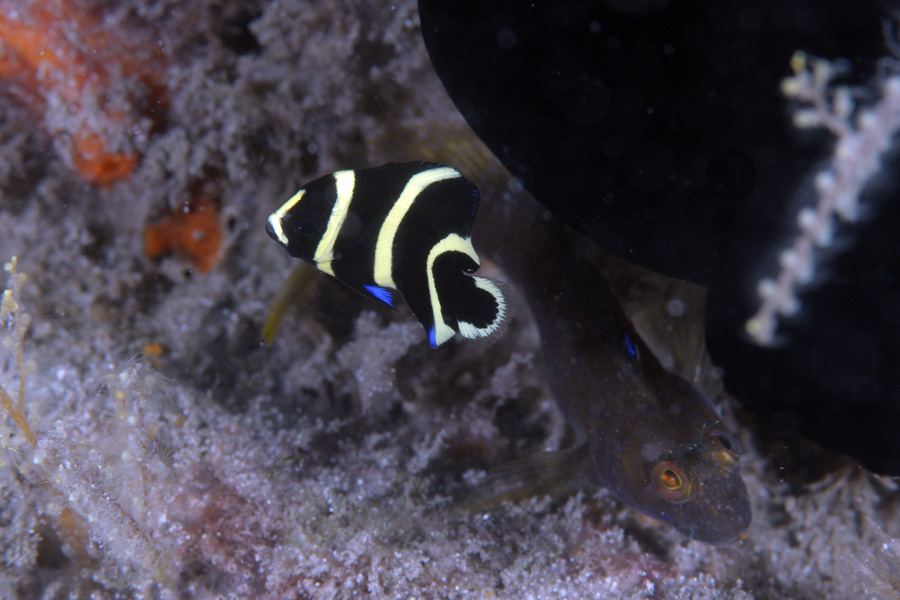Pomacanthus_paru: (267, 150, 507, 361)
